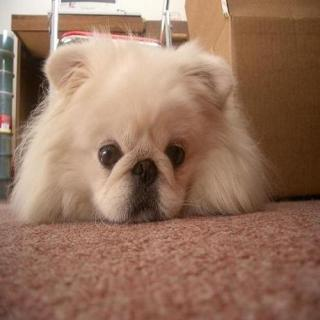dog: (40, 25, 234, 228)
nose: (132, 156, 160, 188)
